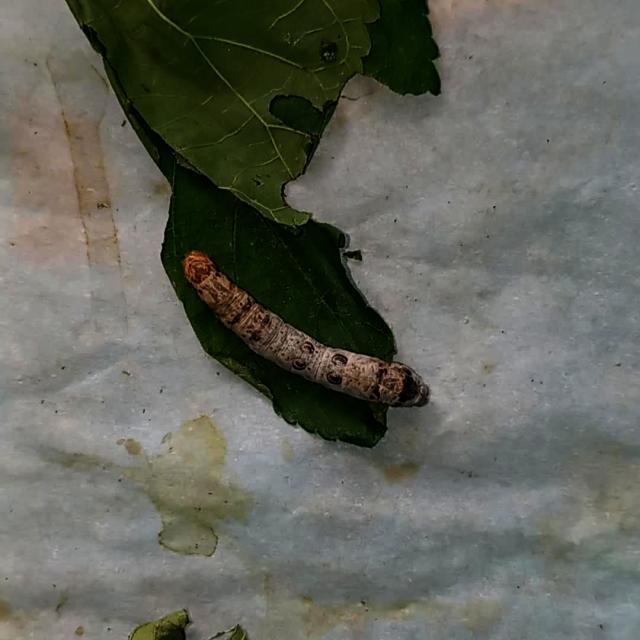Grasserie: (175, 236, 442, 432)
